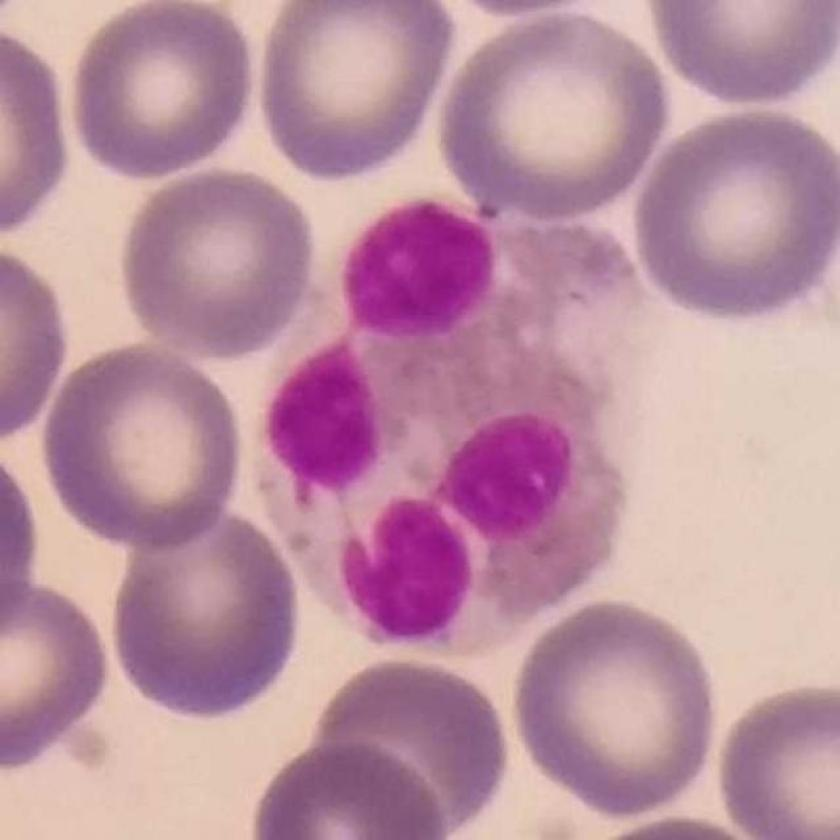eosinophil: (244, 193, 652, 655)
